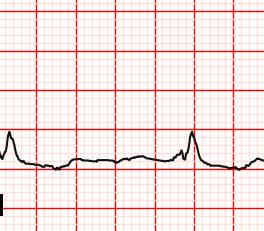Poor R Progression: (183, 125, 205, 163), (2, 128, 24, 162)
